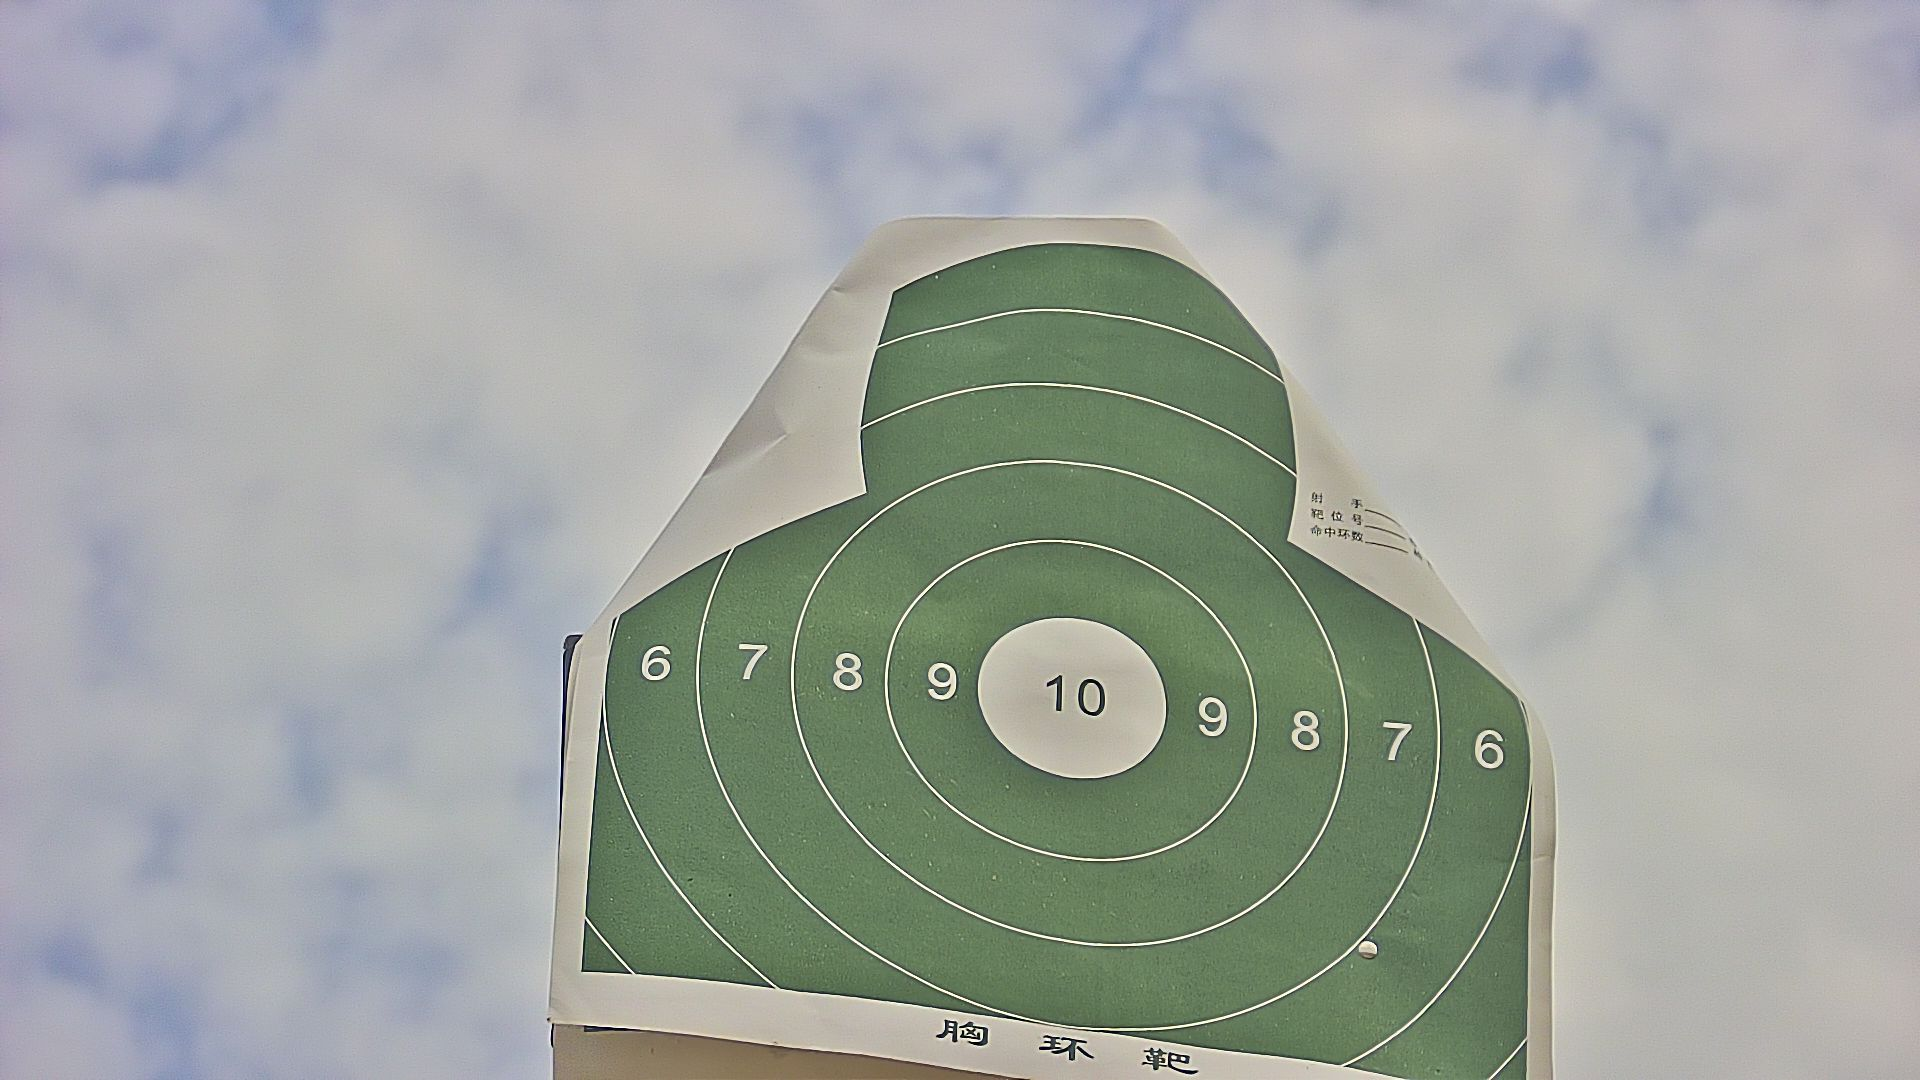kernel: (1069, 692, 1073, 698)
target: (582, 245, 1534, 1080)
ten: (972, 620, 1172, 782)
